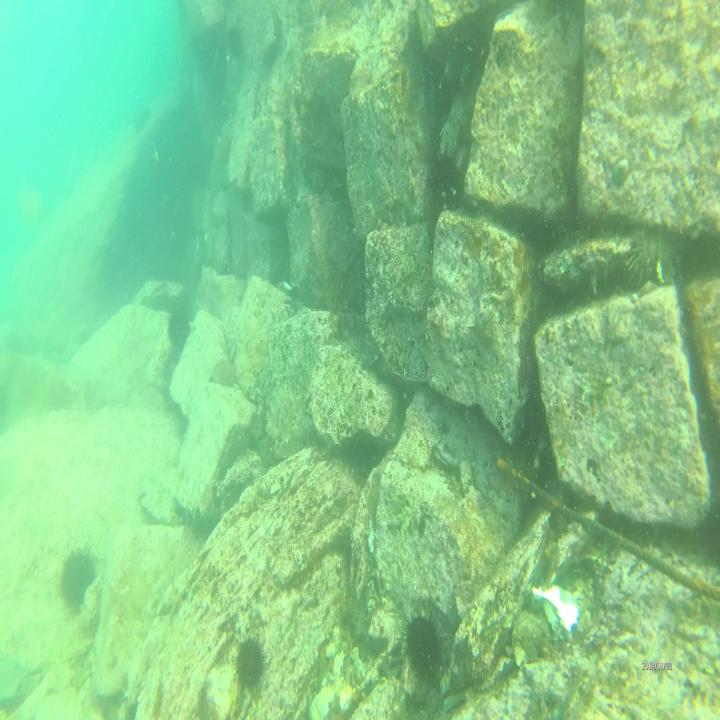echinus: (627, 220, 684, 289), (402, 606, 447, 684), (59, 545, 100, 611), (426, 150, 466, 214), (233, 630, 268, 692), (168, 303, 194, 357)
